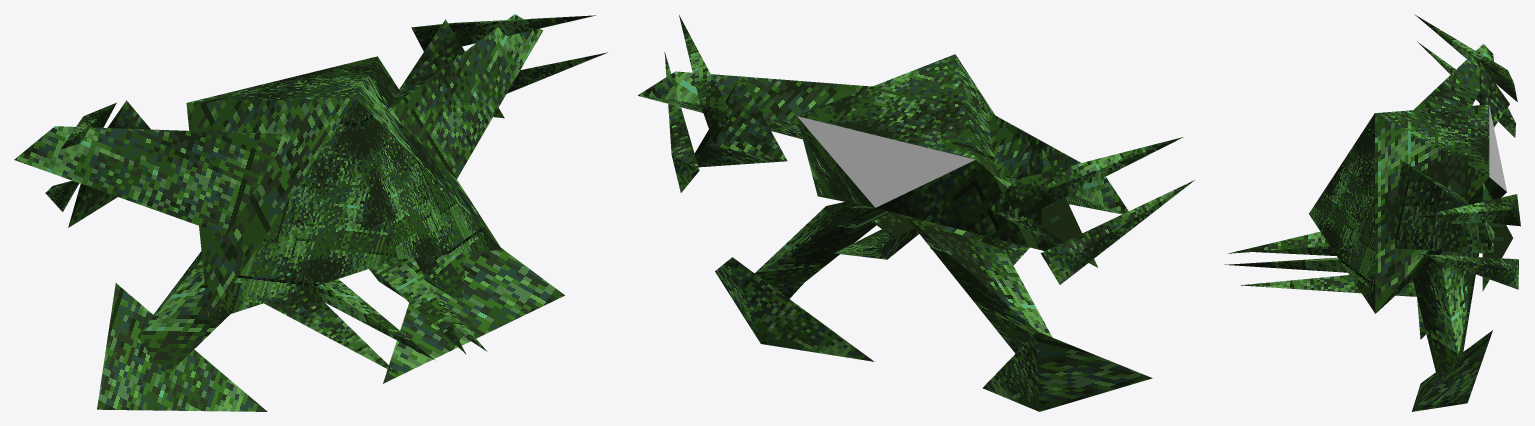
The model's file is model_078_robot.glb.
3 renders of one model, left to right at view 1: azimuth 30°, elevation 25°; view 2: azimuth 150°, elevation 25°; view 3: azimuth 270°, elevation 25°, orthographic. The views are drawn at different scales.
Visible parts, largest first — view 1: model_078; view 2: model_078; view 3: model_078.
Boxes of the visible parts, x1,y1,x2,y2 form: model_078: (14,14,607,411); model_078: (638,15,1194,411); model_078: (1224,14,1520,411).
Bounding box in the file's own units: 9.2 × 4.99 × 5.39.
2 materials, 1 textured.
